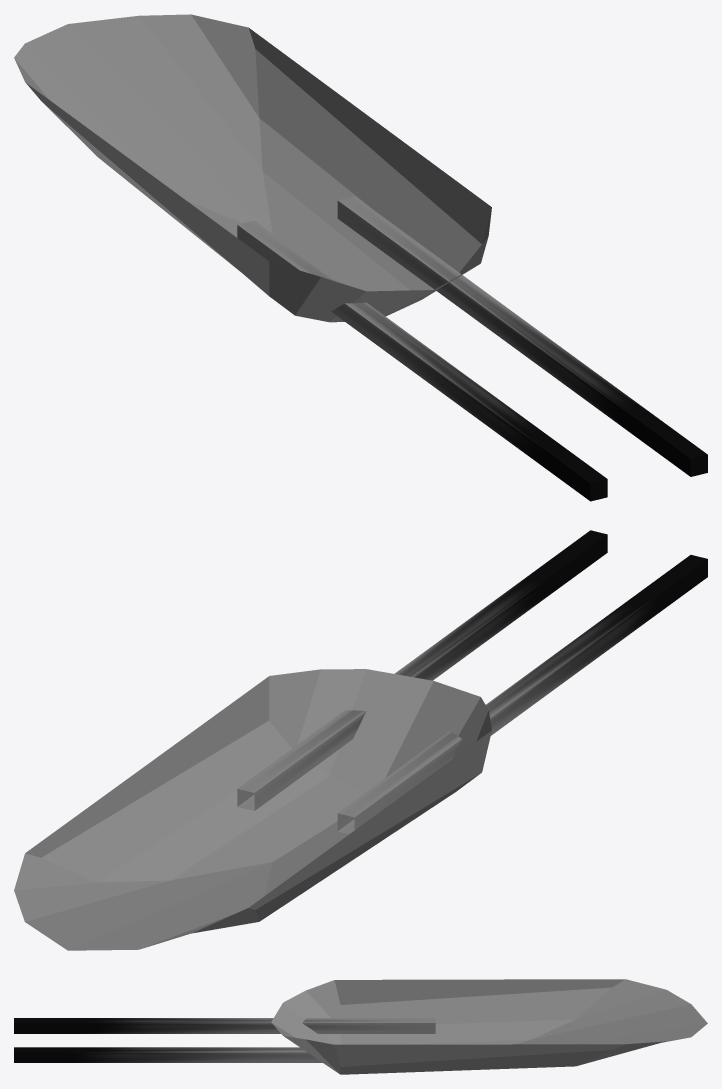
File: 37mm_gunpod.fbx
3 renders of one model, top to bottom at view 1: azimuth 30°, elevation 25°; view 2: azimuth 150°, elevation 25°; view 3: azimuth 270°, elevation 25°, orthographic. The views are drawn at different scales.
Visible parts, largest first — view 1: Cube; view 2: Cube; view 3: Cube.
Part boxes in pixels (left/top/right/bottom): Cube: left=14, top=14, right=707, bottom=501; Cube: left=14, top=530, right=707, bottom=950; Cube: left=14, top=979, right=707, bottom=1074.
Size of the model in its own units: 196 by 76.88 by 885.
Materials: 1 (1 with a texture image).
